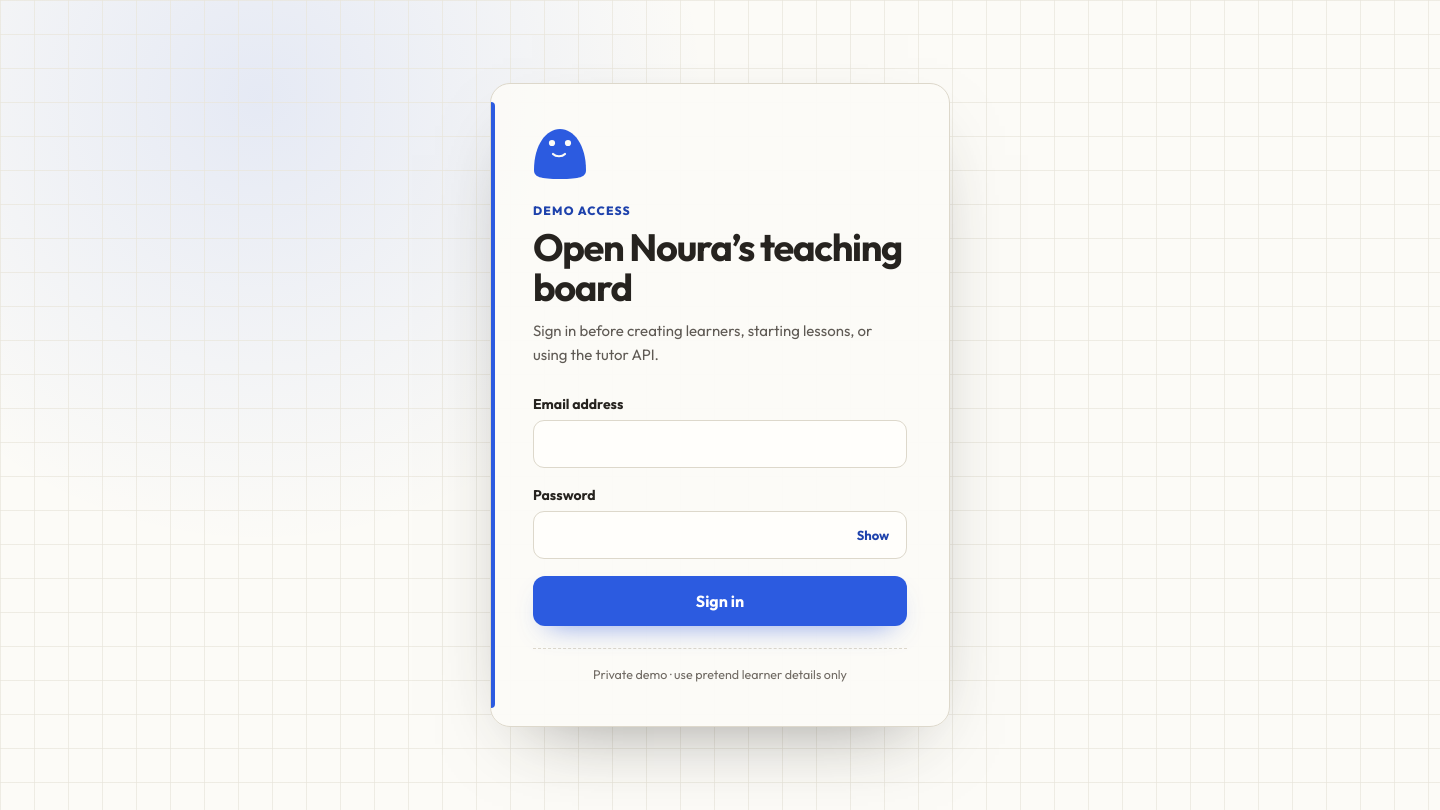
Test: AuthBoundary › keeps the login visible with a generic invalid-credential error
Type "wrong@example.test" into the field labelled "Email address" at (720, 444), box [533,420,907,468]
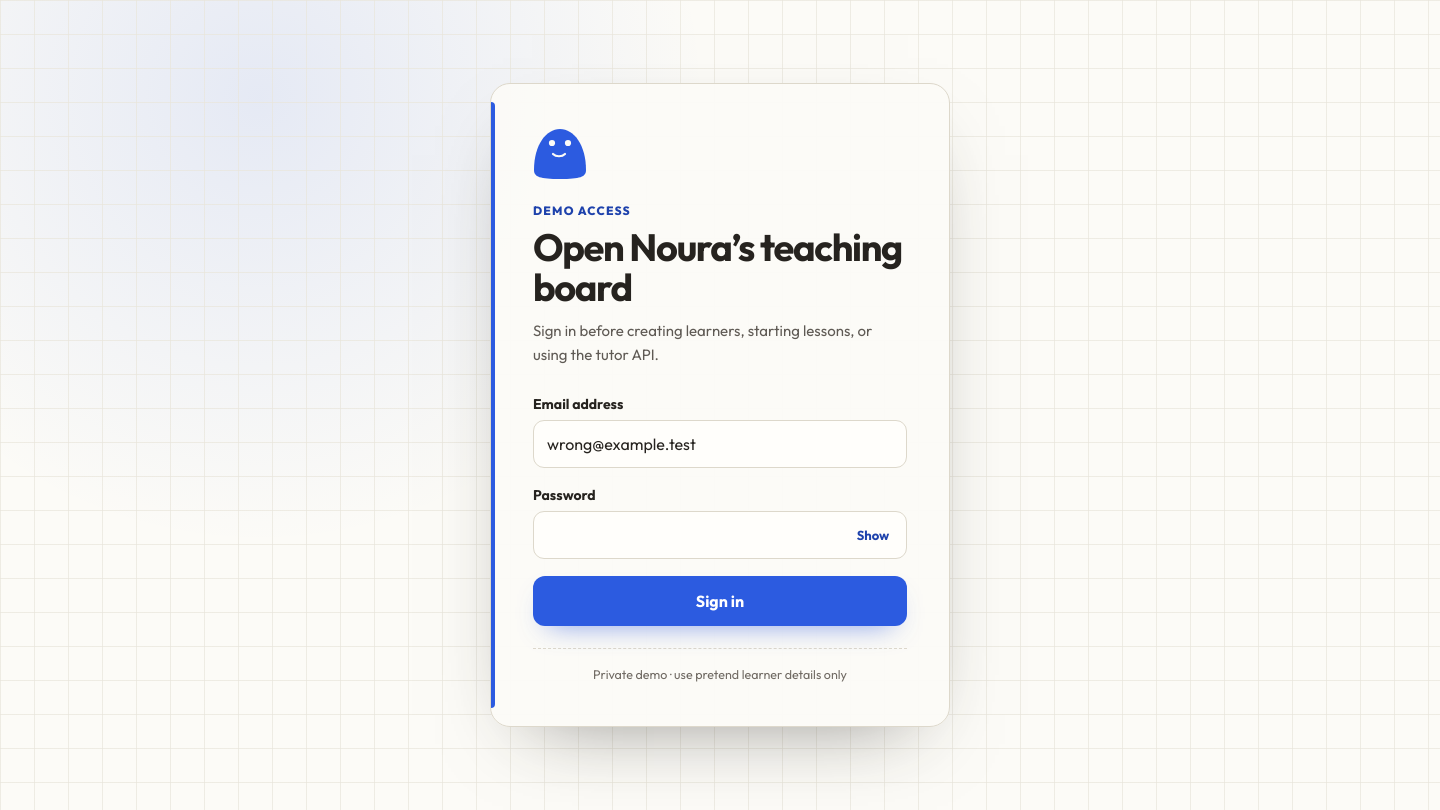
Type "wrong" into the password field labelled "Password" at (720, 535), box [533,511,907,559]
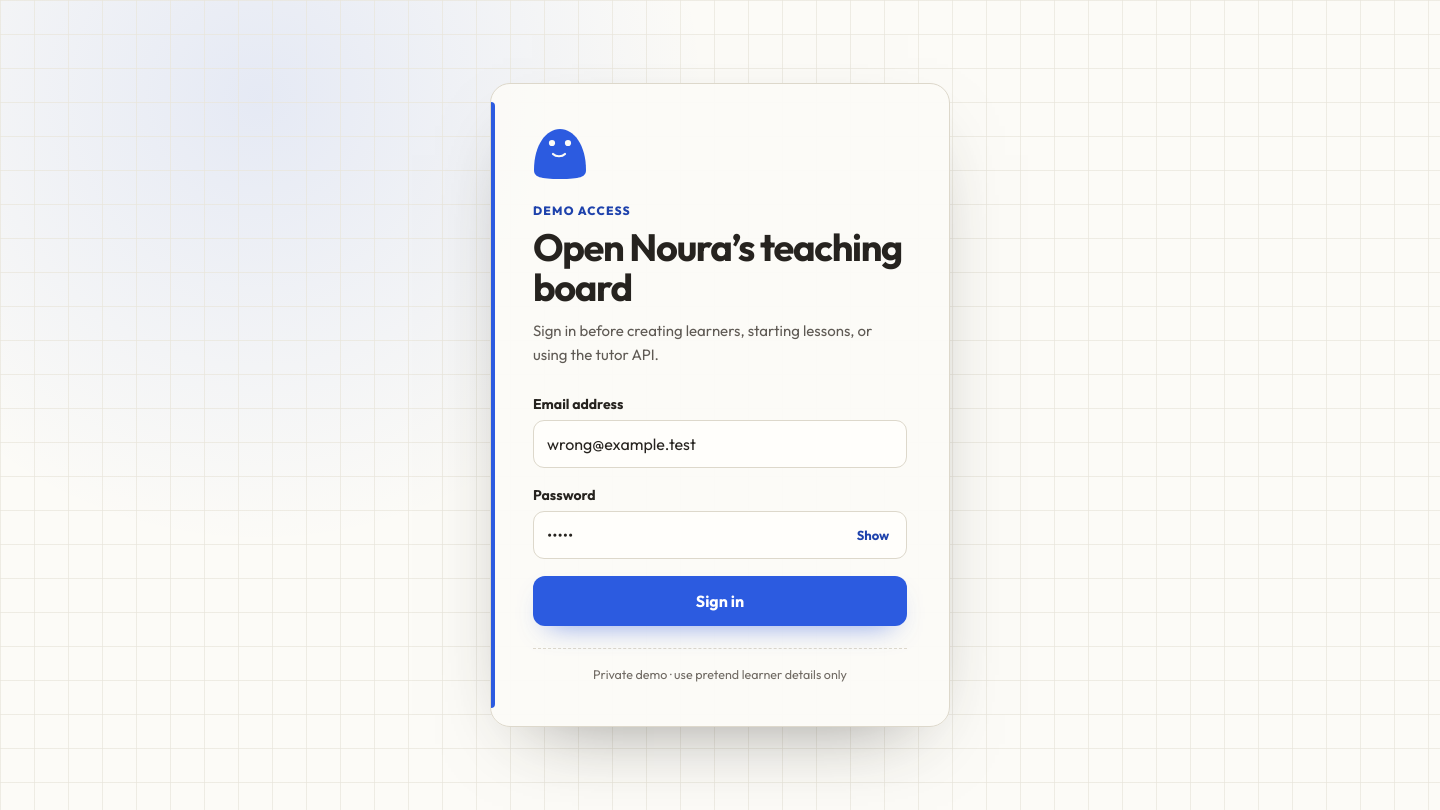
Submit the form with test id "login-form", box [533,394,907,626]
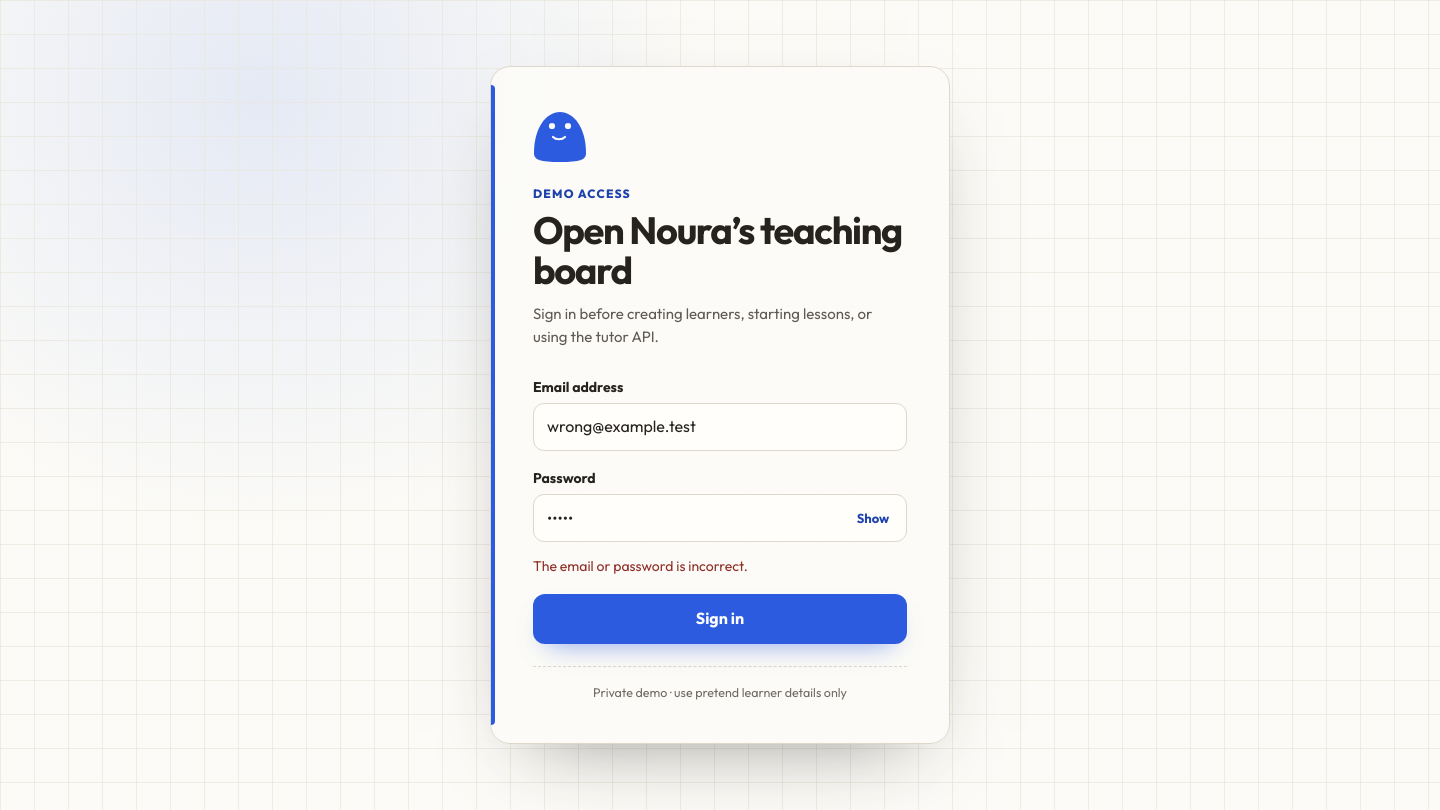
expect the message shows "email or password is incorrect": met, box [533,557,748,575]
